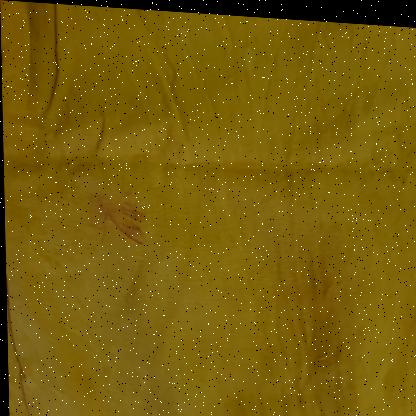spot: (94, 186, 159, 243)
